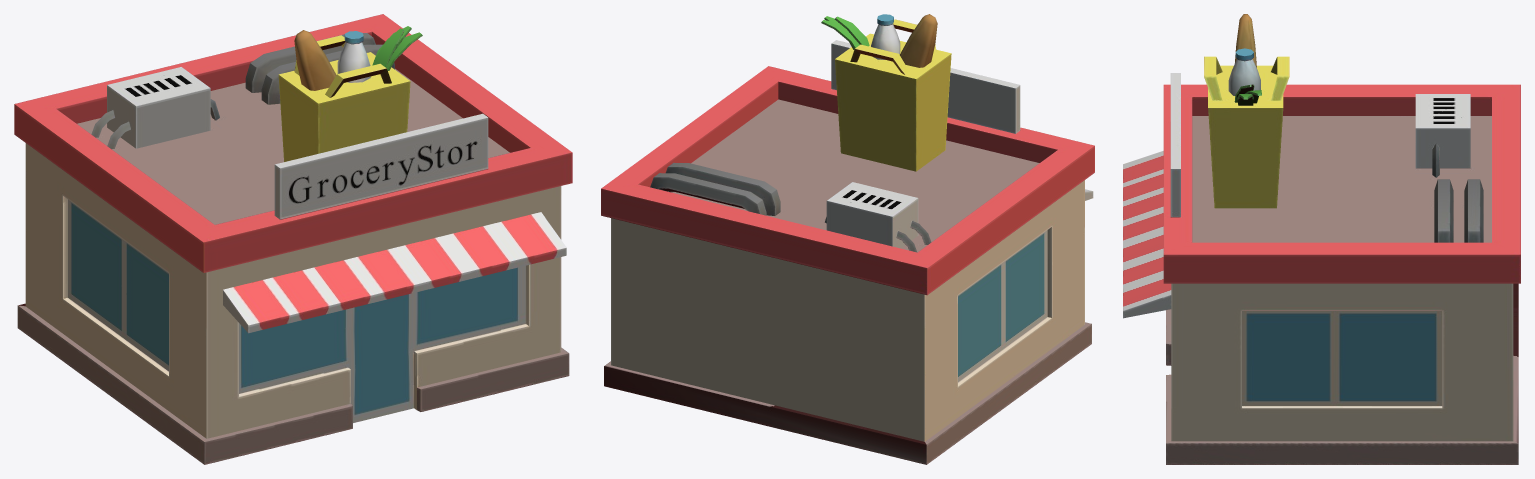
The model's file is Shop.glb.
The picture shows the model from 3 angles, left to right: view 1: azimuth 30°, elevation 25°; view 2: azimuth 150°, elevation 25°; view 3: azimuth 270°, elevation 25°; orthographic projection. The views are drawn at different scales.
Parts seen in each view (by area): view 1: Plane004; view 2: Plane004; view 3: Plane004.
Boxes of the visible parts, x1,y1,x2,y2 form: Plane004: [14, 14, 572, 464]; Plane004: [601, 14, 1094, 464]; Plane004: [1123, 14, 1520, 464].
Bounding box in the file's own units: 2.56 × 2.44 × 2.53.
1 material, 1 textured.
